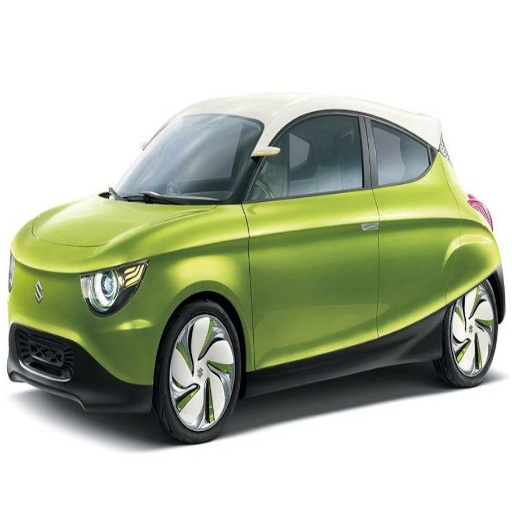front_bumper: (7, 262, 165, 406)
front_glass: (103, 115, 263, 203)
front_left_door: (250, 115, 379, 363)
trunk: (390, 216, 455, 292)
